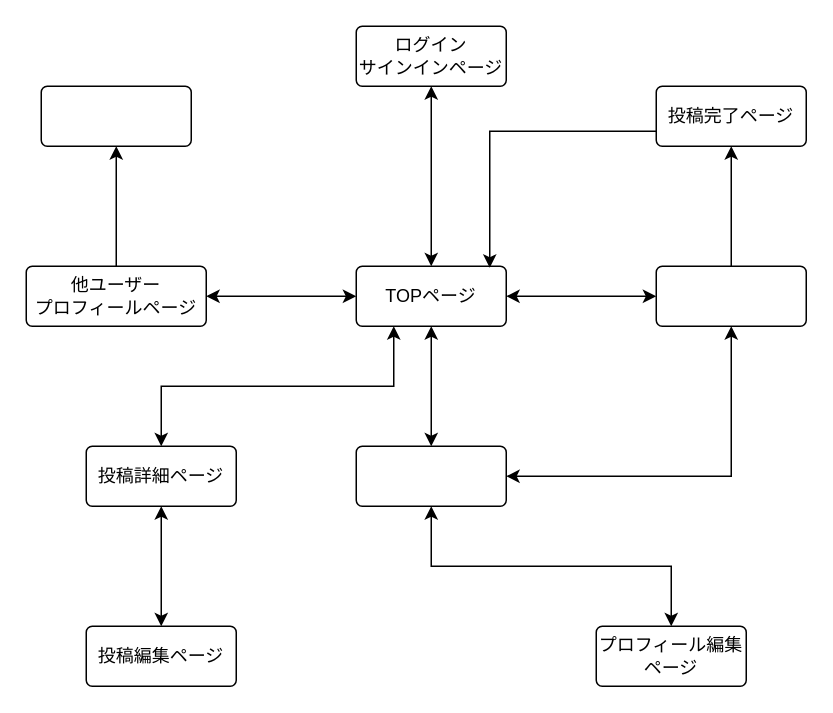
This 833x713 diagram has some shape labels left out. The centre of each missing label's shape, as x and y in pixels:
マイページ: point (430, 475)
他ユーザー 投稿一覧ページ: point (115, 115)
投稿ページ: point (730, 295)
